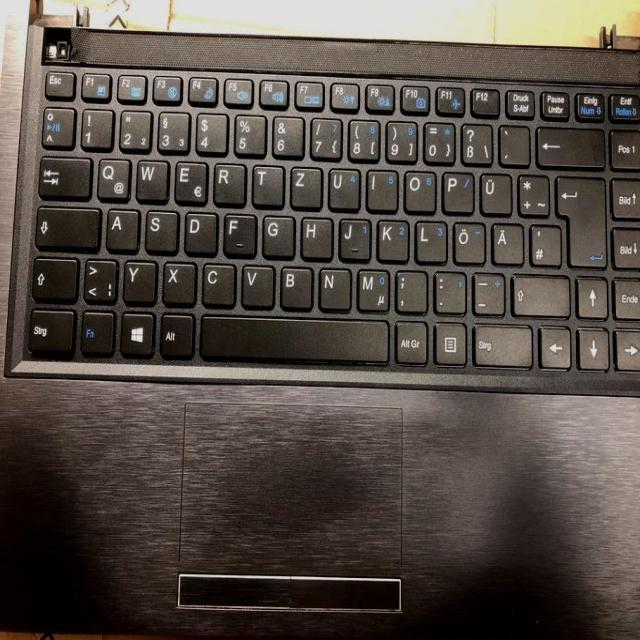0: (422, 119, 455, 163)
1: (78, 105, 112, 147)
2: (117, 106, 150, 148)
3: (154, 108, 188, 150)
4: (193, 109, 226, 152)
5: (231, 111, 265, 154)
6: (270, 113, 303, 156)
7: (308, 115, 341, 158)
8: (345, 117, 379, 160)
9: (384, 118, 417, 161)
a: (104, 206, 138, 250)
accent: (496, 121, 528, 163)
ae: (489, 220, 522, 263)
alt-left: (157, 311, 192, 355)
altgr-right: (392, 317, 426, 361)
b: (277, 263, 311, 307)
c: (199, 259, 234, 304)
caret: (38, 103, 73, 147)
comma: (393, 267, 426, 311)
d: (182, 209, 216, 254)
del: (533, 122, 604, 165)
e: (172, 158, 206, 203)
enter: (552, 172, 606, 266)
f: (221, 211, 254, 255)
g: (260, 211, 293, 255)
h: (298, 213, 332, 257)
hash: (527, 221, 559, 264)
i: (365, 166, 398, 210)
j: (336, 214, 369, 259)
k: (374, 216, 407, 260)
keyboard: (13, 61, 640, 388)
l: (413, 217, 446, 261)
less: (81, 255, 115, 302)
m: (354, 266, 388, 310)
minus: (469, 269, 504, 314)
n: (316, 264, 349, 308)
o: (401, 167, 435, 211)
oe: (450, 218, 484, 263)
p: (439, 168, 473, 211)
plus: (515, 170, 548, 214)
point: (431, 268, 465, 312)
q: (94, 155, 129, 199)
r: (210, 160, 244, 204)
s: (142, 207, 177, 252)
shift-left: (28, 254, 76, 300)
shift-lock: (32, 203, 99, 248)
shift-right: (509, 270, 569, 315)
space: (197, 313, 388, 361)
ss: (458, 120, 491, 163)
strg-left: (27, 305, 73, 352)
strg-right: (468, 321, 532, 365)
t: (250, 162, 282, 205)
tab: (35, 152, 89, 196)
u: (326, 164, 359, 209)
ue: (476, 169, 510, 213)
v: (239, 261, 272, 306)
w: (134, 156, 167, 201)
x: (160, 258, 194, 303)
y: (120, 257, 155, 302)
z: (288, 163, 321, 207)
